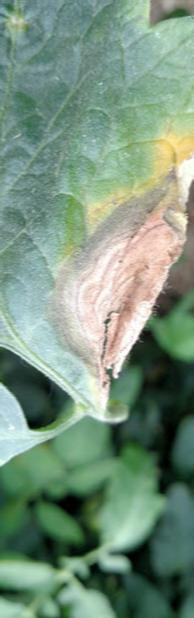Tomato mold leaf: (0, 0, 194, 475)
